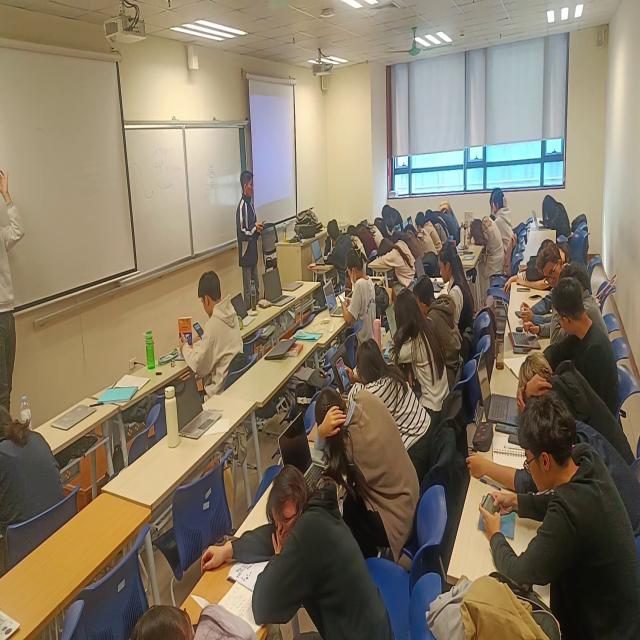raise_head: (438, 243, 466, 290), (492, 189, 506, 221)
sleep: (201, 460, 385, 640), (316, 382, 405, 505), (521, 357, 605, 424), (472, 211, 506, 284), (379, 232, 418, 284), (350, 219, 379, 261), (425, 209, 452, 246)
stand: (236, 167, 264, 311)
using_phone: (479, 406, 584, 606), (336, 340, 409, 409), (193, 274, 230, 348)
